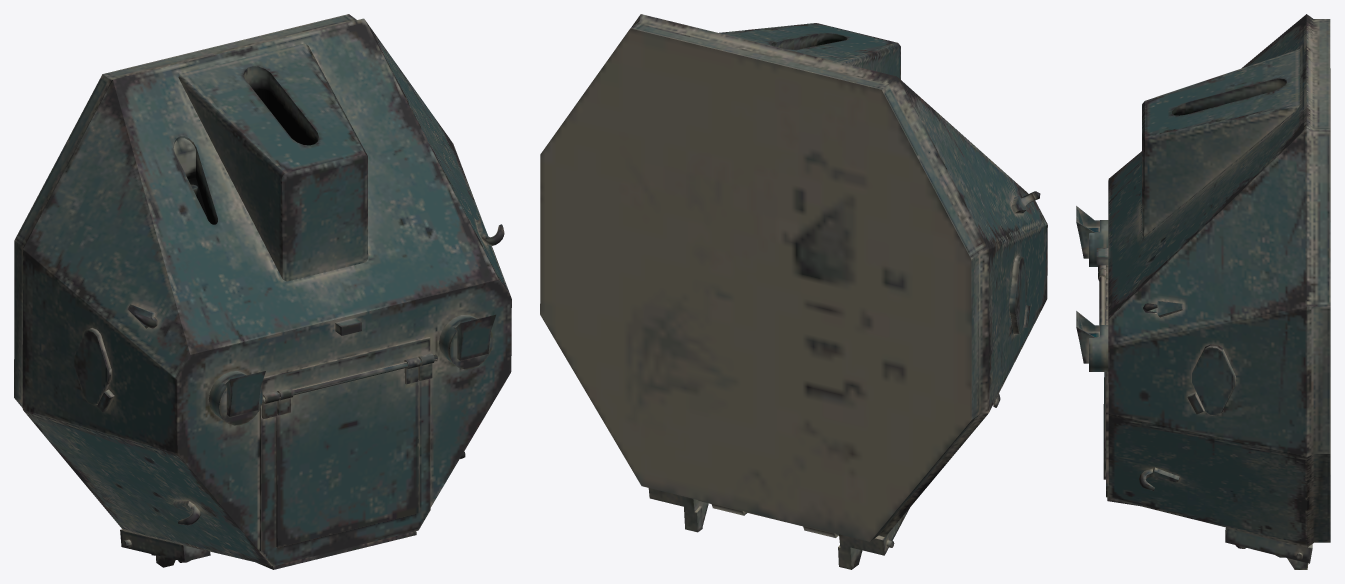
File: Turret_01.glb
The picture shows the model from 3 angles, left to right: view 1: azimuth 30°, elevation 25°; view 2: azimuth 150°, elevation 25°; view 3: azimuth 270°, elevation 25°; orthographic projection. The views are drawn at different scales.
Parts seen in each view (by area): view 1: set_0_group_0; view 2: set_0_group_0; view 3: set_0_group_0.
Boxes of the visible parts, <box> form: set_0_group_0: <box>14,14,511,569</box>; set_0_group_0: <box>540,14,1047,569</box>; set_0_group_0: <box>1076,14,1330,569</box>.
Size of the model in its own units: 1.55 by 1.7 by 0.8491.
Materials: 1 (1 with a texture image).
